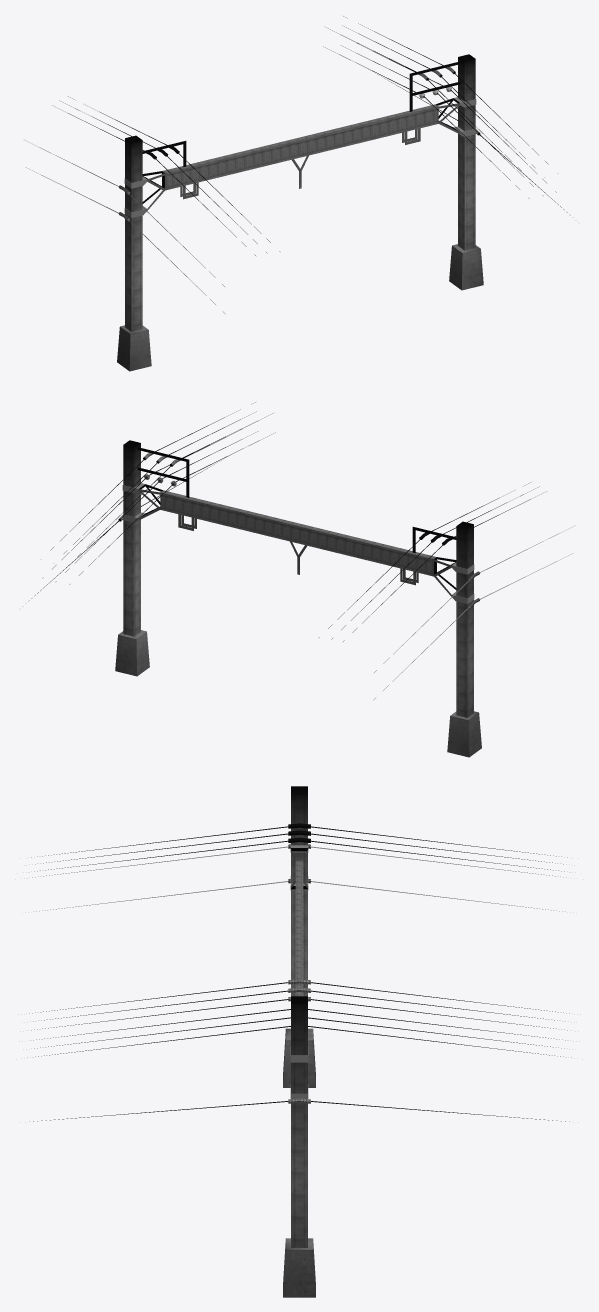
The model's file is AMB_KASENCHU_KQ00.glb.
The picture shows the model from 3 angles, top to bottom: view 1: azimuth 30°, elevation 25°; view 2: azimuth 150°, elevation 25°; view 3: azimuth 270°, elevation 25°; orthographic projection. The views are drawn at different scales.
Parts seen in each view (by area): view 1: obj2, obj10, Mesh2; view 2: obj2, obj10, Mesh2; view 3: obj2, obj10, Mesh2.
Boxes of the visible parts, left/top/right/bottom form: obj2: left=323, top=16, right=570, bottom=290; obj10: left=26, top=96, right=279, bottom=371; Mesh2: left=164, top=105, right=436, bottom=189; obj2: left=28, top=402, right=275, bottom=676; obj10: left=319, top=482, right=572, bottom=757; Mesh2: left=162, top=491, right=434, bottom=575; obj2: left=27, top=979, right=571, bottom=1297; obj10: left=31, top=786, right=567, bottom=1087; Mesh2: left=295, top=862, right=303, bottom=996.
Size of the model in its own units: 46.34 by 28.12 by 50.
Materials: 12 (12 with a texture image).
